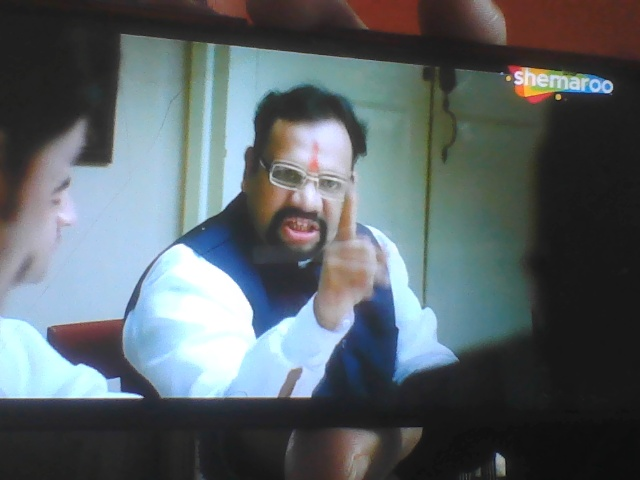fake: (237, 90, 359, 263)
